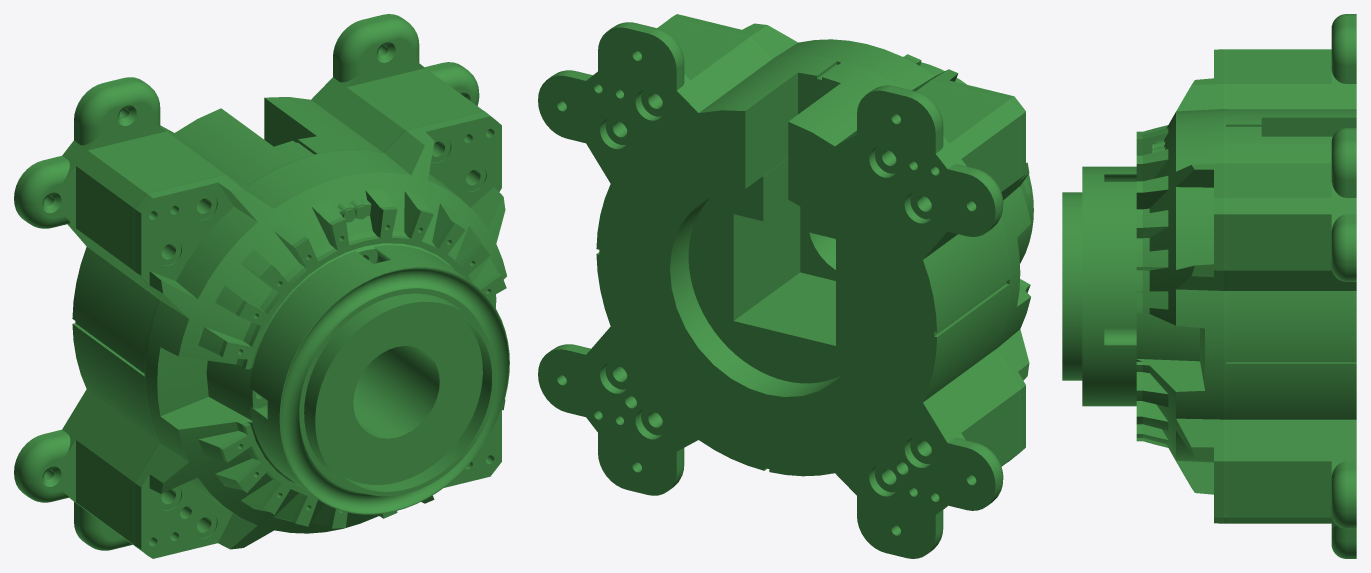
The picture shows the model from 3 angles, left to right: view 1: azimuth 30°, elevation 25°; view 2: azimuth 150°, elevation 25°; view 3: azimuth 270°, elevation 25°; orthographic projection. The views are drawn at different scales.
Parts seen in each view (by area): view 1: Body1 (×3); view 2: Body1 (×4); view 3: Body1 (×3).
Boxes of the visible parts, x1=… form: Body1 (×3): x1=14, y1=14, x2=509, y2=558; Body1 (×4): x1=538, y1=14, x2=1033, y2=558; Body1 (×3): x1=1062, y1=14, x2=1356, y2=558.
Size of the model in its own units: 191 by 184 by 118.
